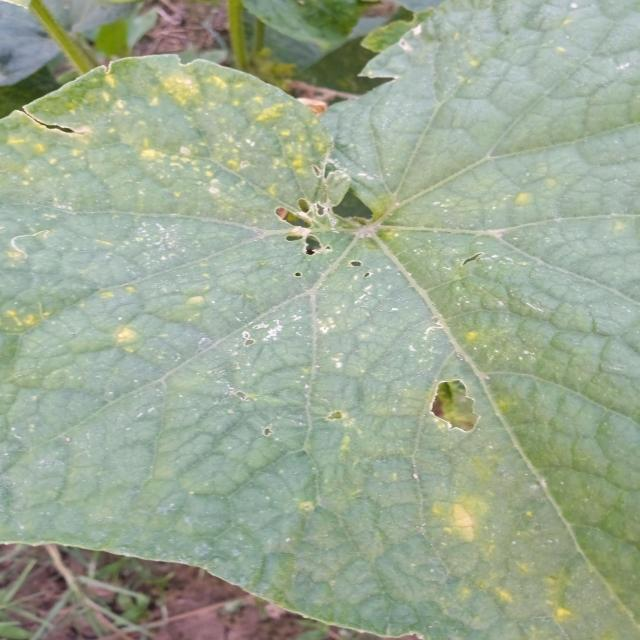cucumber_downy: (8, 79, 640, 623)
